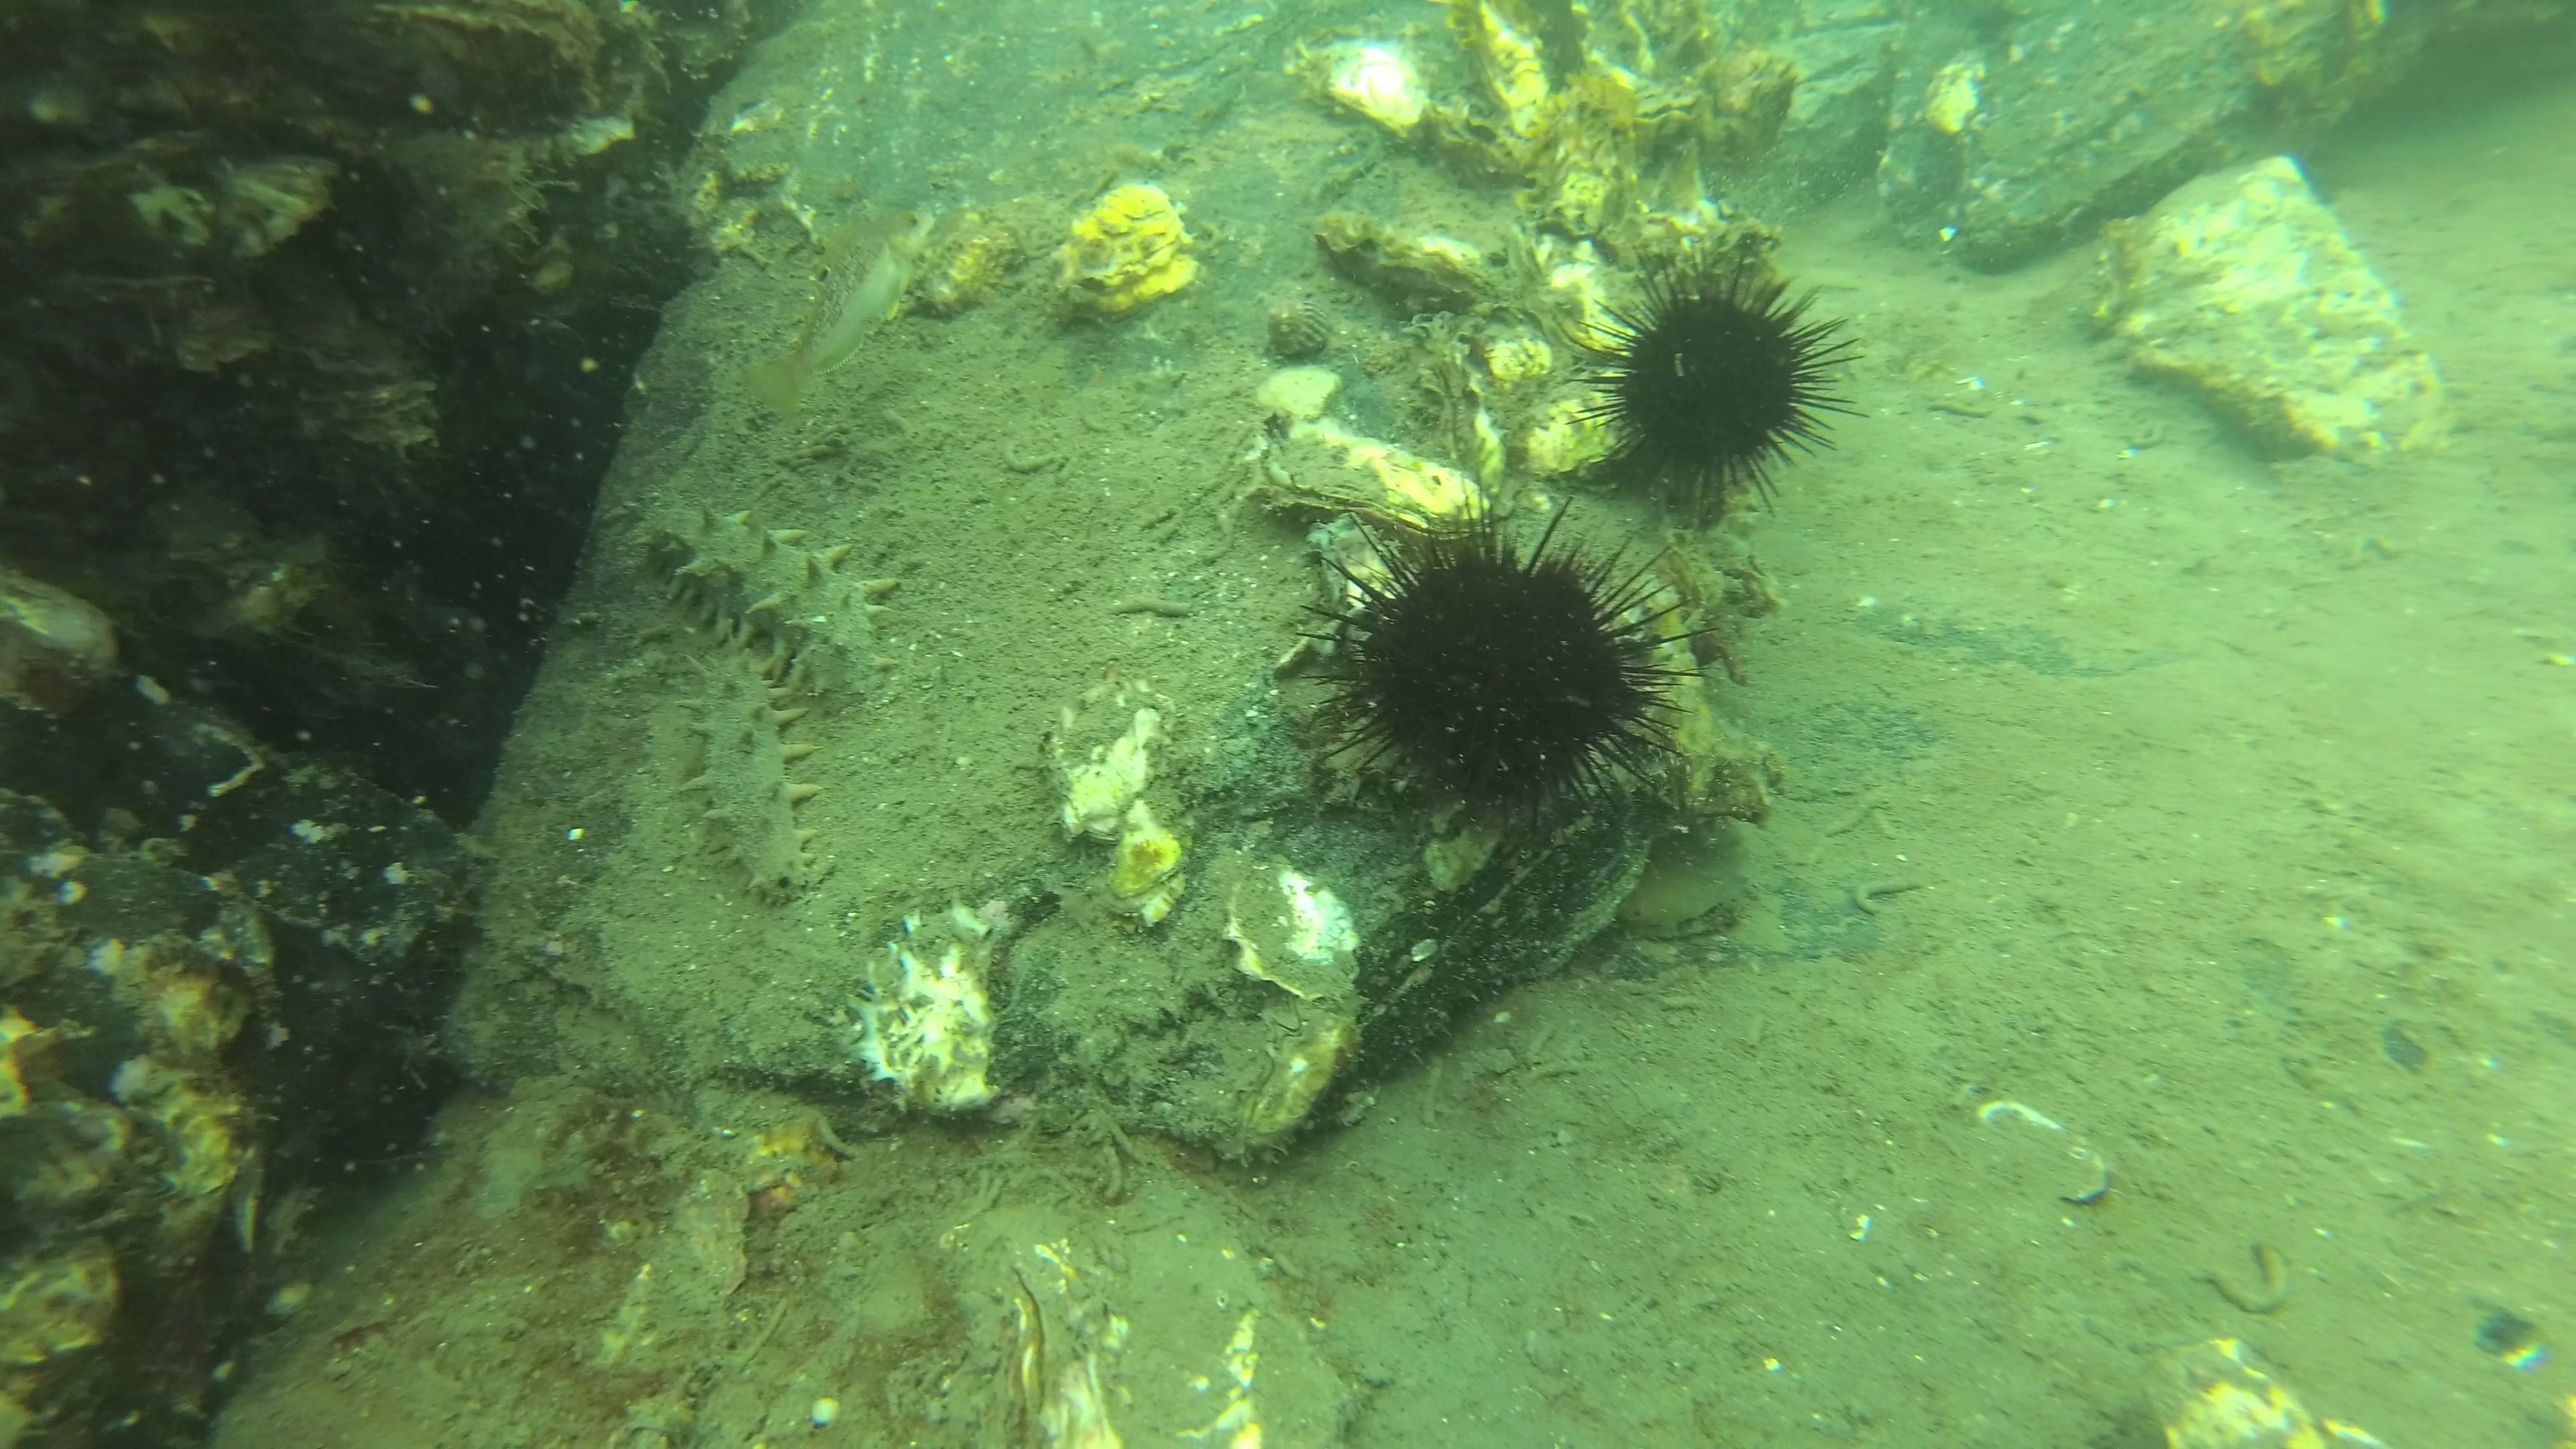echinus: (1286, 487, 1709, 844), (1562, 253, 1870, 518)
holothurian: (628, 492, 909, 701), (688, 640, 819, 909)
scallop: (1261, 294, 1338, 368)
